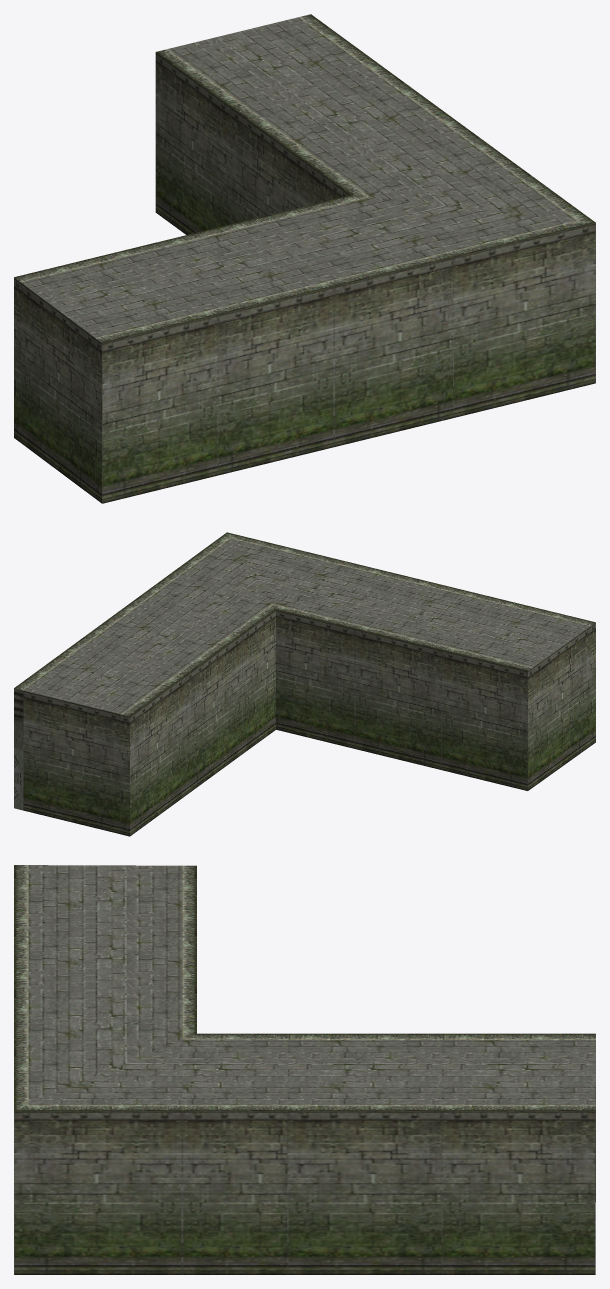
File: lianqizong_taijie04d_jz.FBX
3 views of the same model, one above another, from view 1: azimuth 30°, elevation 25°; view 2: azimuth 150°, elevation 25°; view 3: azimuth 270°, elevation 25° (orthographic). The views are drawn at different scales.
Visible parts, largest first — view 1: lianqizong_taijie04d_jz_A02, lianqizong_taijie04d_jz_A01; view 2: lianqizong_taijie04d_jz_A02, lianqizong_taijie04d_jz_A01; view 3: lianqizong_taijie04d_jz_A02, lianqizong_taijie04d_jz_A01.
Part boxes in pixels (x1=…): lianqizong_taijie04d_jz_A02: x1=14, y1=52, x2=595, y2=503; lianqizong_taijie04d_jz_A01: x1=14, y1=14, x2=595, y2=342; lianqizong_taijie04d_jz_A02: x1=14, y1=609, x2=595, y2=836; lianqizong_taijie04d_jz_A01: x1=14, y1=532, x2=595, y2=716; lianqizong_taijie04d_jz_A02: x1=14, y1=1086, x2=595, y2=1274; lianqizong_taijie04d_jz_A01: x1=14, y1=865, x2=595, y2=1110.
Bounding box in the file's own units: 486 × 151 × 486.
